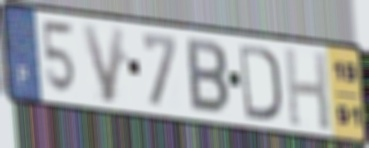5: (39, 17, 79, 99)
7: (140, 29, 180, 111)
B: (185, 35, 232, 118)
D: (237, 41, 283, 124)
H: (282, 44, 333, 134)
V: (79, 21, 127, 107)
